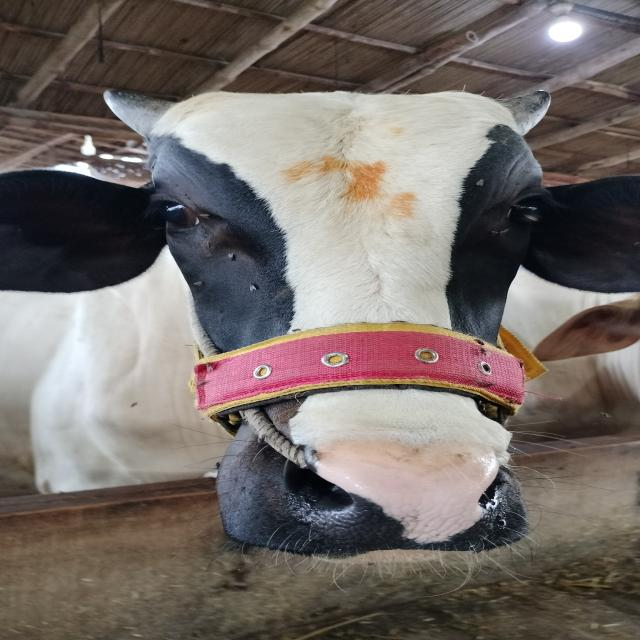muzzles: (264, 427, 544, 558)
